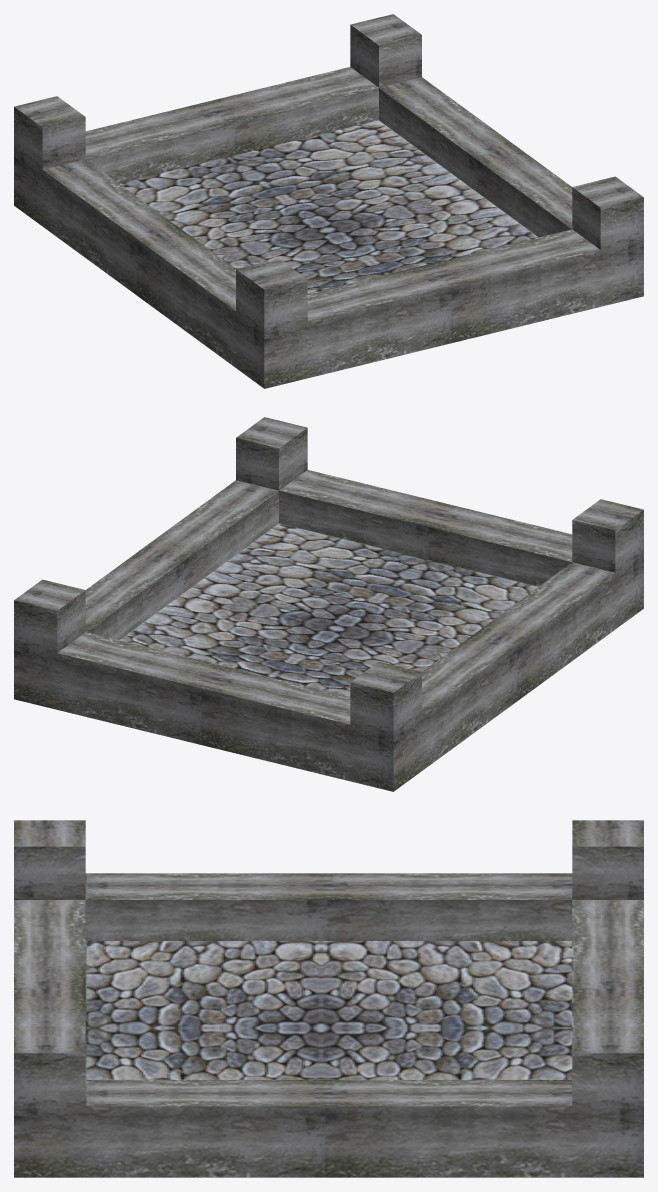
The model's file is Magic_Pool.FBX.
The picture shows the model from 3 angles, top to bottom: view 1: azimuth 30°, elevation 25°; view 2: azimuth 150°, elevation 25°; view 3: azimuth 270°, elevation 25°; orthographic projection. The views are drawn at different scales.
Parts seen in each view (by area): view 1: Box001; view 2: Box001; view 3: Box001.
Part boxes in pixels (x1,y1,x2,y2): Box001: (14,14,643,388); Box001: (14,417,643,791); Box001: (14,820,643,1177).
Size of the model in its own units: 70 by 17.44 by 80.
